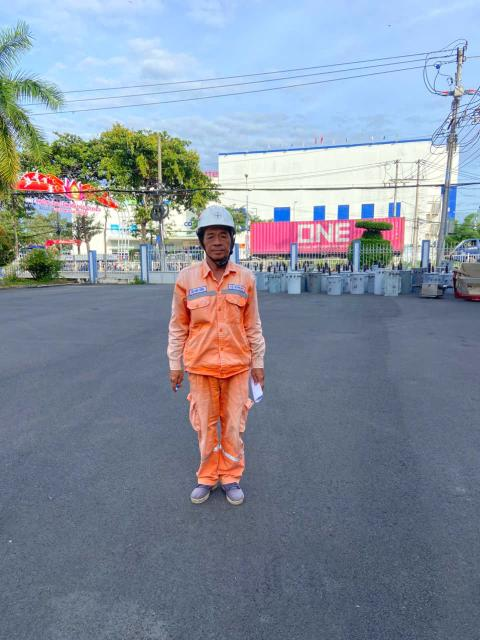helmet: (173, 206, 251, 235)
shoes: (216, 476, 253, 507), (192, 474, 223, 508)
